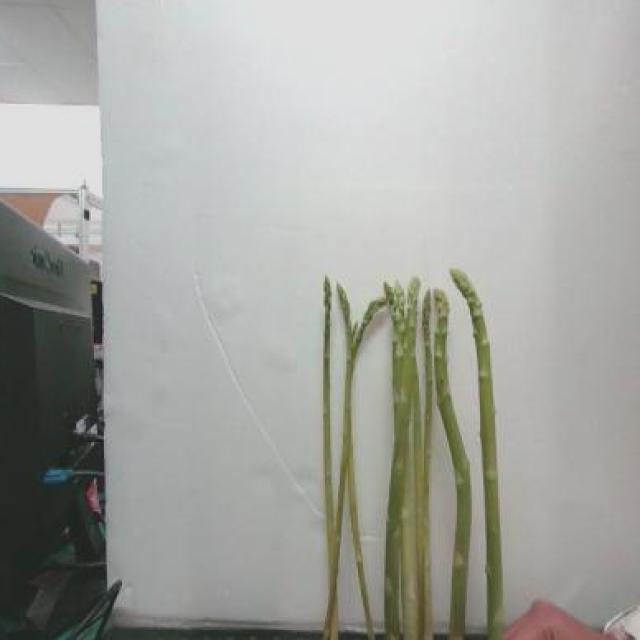aspargus: (318, 277, 376, 640), (450, 269, 504, 640), (432, 291, 471, 640)
